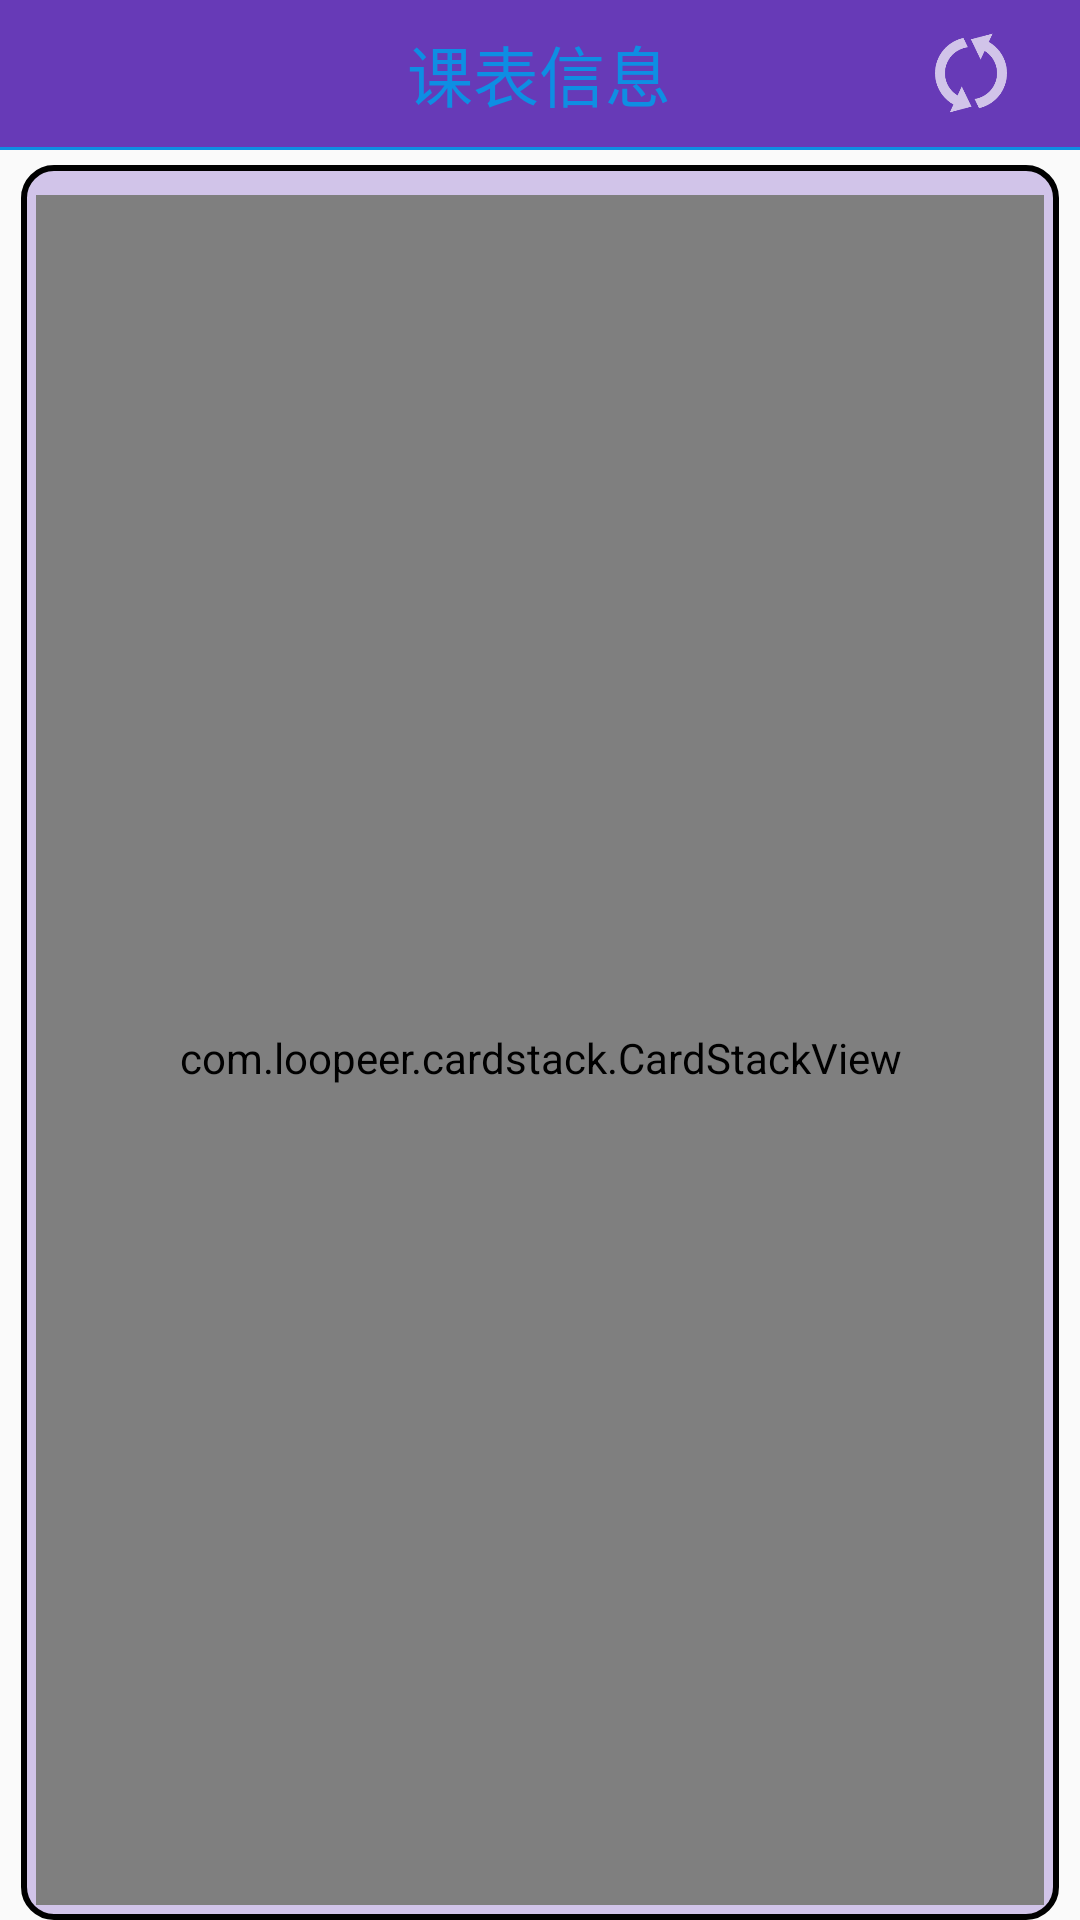

Where to tap for icons on this 1080×1920 app screen, as point (x, y):
shuaxin: point (971, 73)
